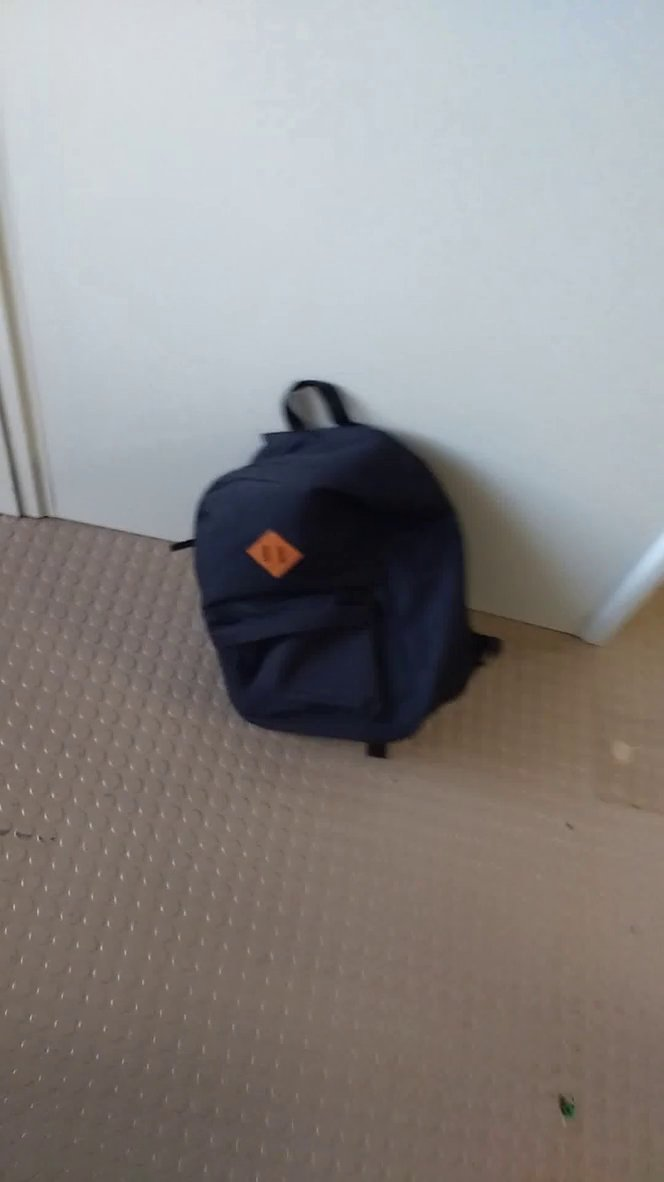bag: (157, 362, 524, 768)
